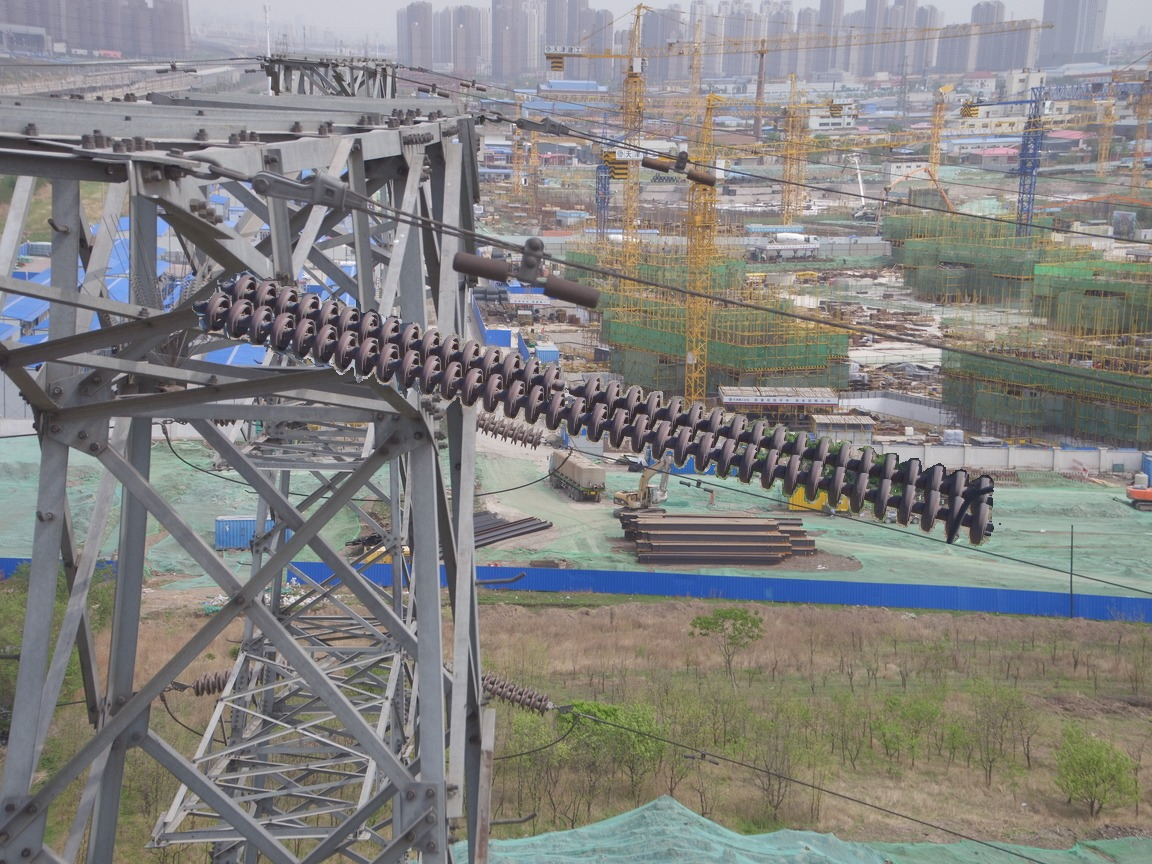defect: (531, 359, 604, 403)
